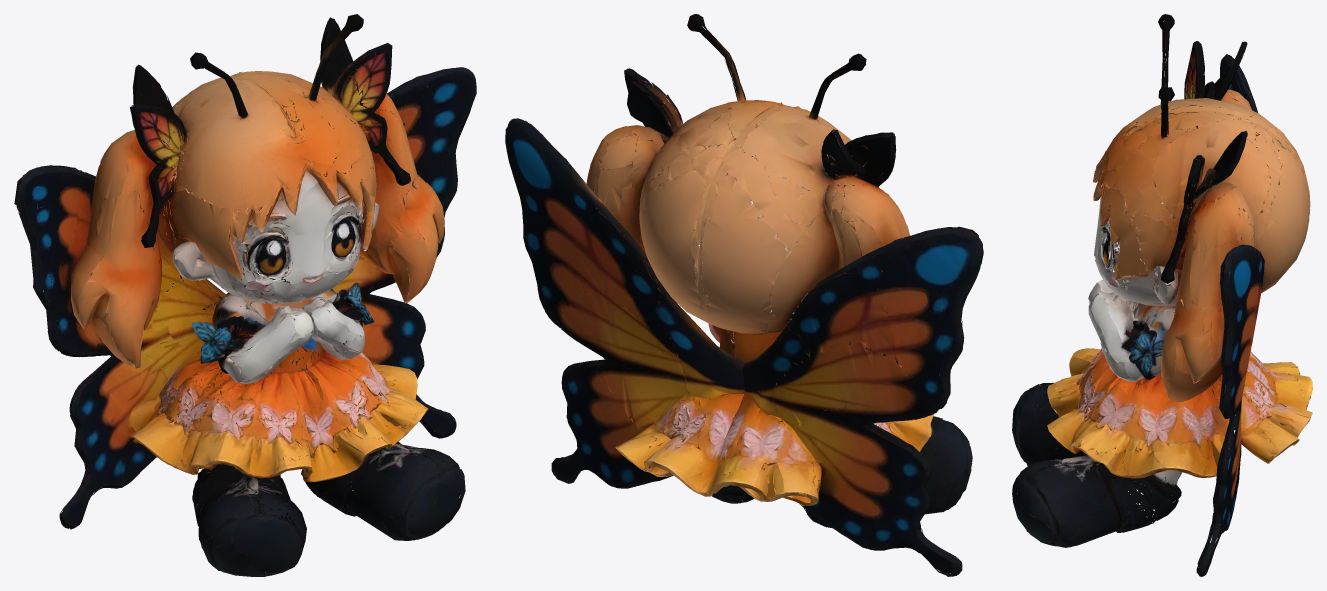
Rendered from mona.glb.
3 renders of one model, left to right at view 1: azimuth 30°, elevation 25°; view 2: azimuth 150°, elevation 25°; view 3: azimuth 270°, elevation 25°, orthographic. The views are drawn at different scales.
Visible parts, largest first — view 1: node_0; view 2: node_0; view 3: node_0.
Part boxes in pixels (bbox=[...]): node_0: bbox=[14, 14, 476, 576]; node_0: bbox=[505, 14, 983, 576]; node_0: bbox=[1012, 14, 1312, 576].
Bounding box in the file's own units: 0.9506 × 0.9403 × 0.5686.
Materials: 1 (1 with a texture image).
